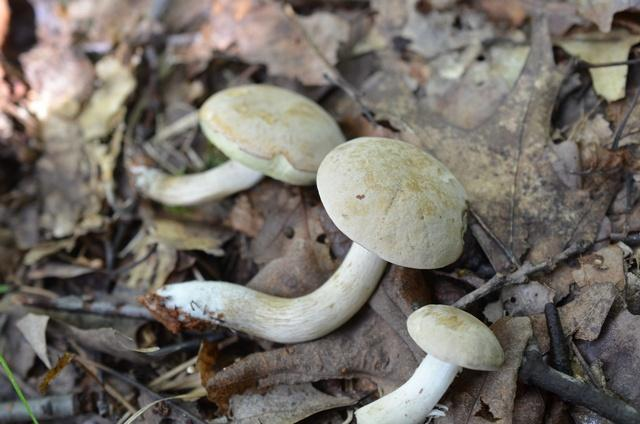Edible Mushroom: (139, 134, 469, 344), (134, 82, 346, 207), (353, 302, 505, 423)
